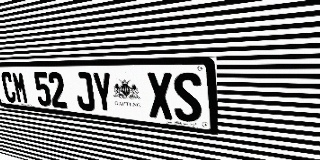2: (47, 72, 67, 108)
5: (33, 72, 52, 107)
C: (0, 72, 17, 103)
J: (73, 72, 96, 112)
M: (11, 72, 29, 104)
S: (172, 72, 202, 123)
X: (146, 72, 174, 120)
Y: (91, 72, 115, 114)
